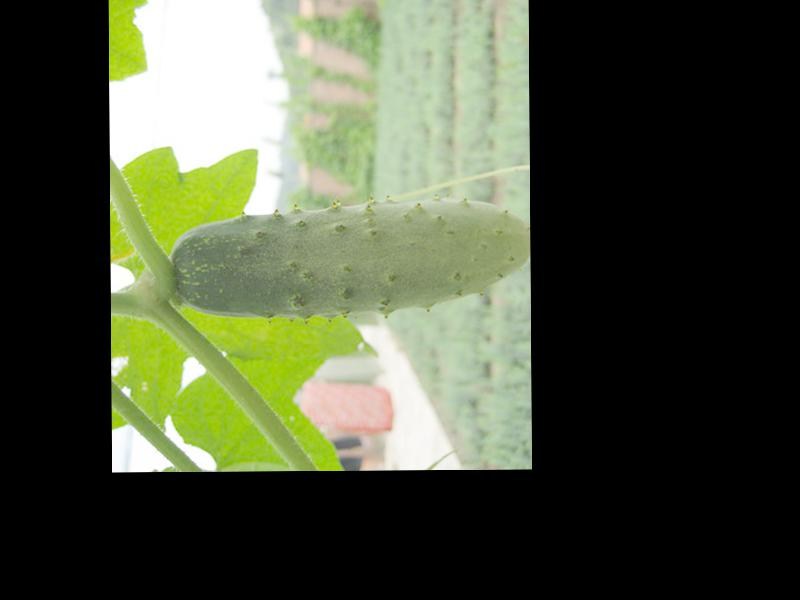Cucumber: (170, 200, 530, 318)
